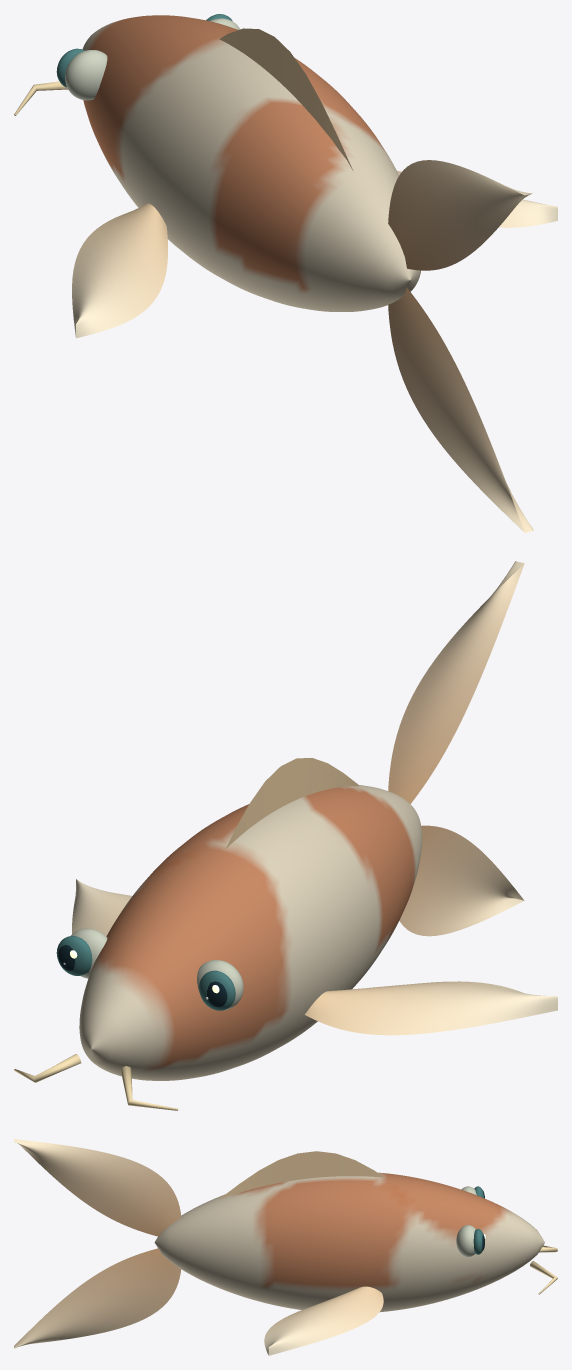
Rendered from koi.glb.
3 views of the same model, one above another, from view 1: azimuth 30°, elevation 25°; view 2: azimuth 150°, elevation 25°; view 3: azimuth 270°, elevation 25° (orthographic). The views are drawn at different scales.
Visible parts, largest first — view 1: koi_fixed_Porcelain skin, koi_tail.001_Silken fins, koi_wing_left.004_Silken fins, koi_fixed_Silken fins, koi_eye_left.004_Porcelain skin, koi_wing_right.004_Silken fins; view 2: koi_fixed_Porcelain skin, koi_tail.001_Silken fins, koi_wing_left.004_Silken fins, koi_fixed_Silken fins, koi_wing_right.004_Silken fins, koi_eye_right.004_Enamel, koi_eye_left.004_Porcelain skin, koi_eye_left.004_Enamel; view 3: koi_fixed_Porcelain skin, koi_tail.001_Silken fins, koi_wing_right.004_Silken fins, koi_fixed_Silken fins, koi_eye_right.004_Porcelain skin.
Boxes of the visible parts, bbox=[...] form: koi_fixed_Porcelain skin: bbox=[82, 15, 420, 311]; koi_tail.001_Silken fins: bbox=[388, 160, 533, 532]; koi_wing_left.004_Silken fins: bbox=[72, 203, 167, 338]; koi_fixed_Silken fins: bbox=[14, 28, 352, 170]; koi_eye_left.004_Porcelain skin: bbox=[65, 50, 107, 100]; koi_wing_right.004_Silken fins: bbox=[397, 171, 557, 227]; koi_fixed_Porcelain skin: bbox=[79, 785, 422, 1080]; koi_tail.001_Silken fins: bbox=[388, 561, 524, 936]; koi_wing_left.004_Silken fins: bbox=[304, 981, 557, 1035]; koi_fixed_Silken fins: bbox=[14, 758, 359, 1110]; koi_wing_right.004_Silken fins: bbox=[72, 879, 131, 936]; koi_eye_right.004_Enamel: bbox=[56, 936, 92, 975]; koi_eye_left.004_Porcelain skin: bbox=[197, 960, 243, 1010]; koi_eye_left.004_Enamel: bbox=[199, 970, 235, 1010]; koi_fixed_Porcelain skin: bbox=[154, 1172, 544, 1312]; koi_tail.001_Silken fins: bbox=[14, 1139, 181, 1348]; koi_wing_right.004_Silken fins: bbox=[264, 1286, 383, 1355]; koi_fixed_Silken fins: bbox=[220, 1151, 557, 1294]; koi_eye_right.004_Porcelain skin: bbox=[456, 1225, 484, 1256].
Size of the model in its own units: 2.84 by 1.9 by 4.53.
